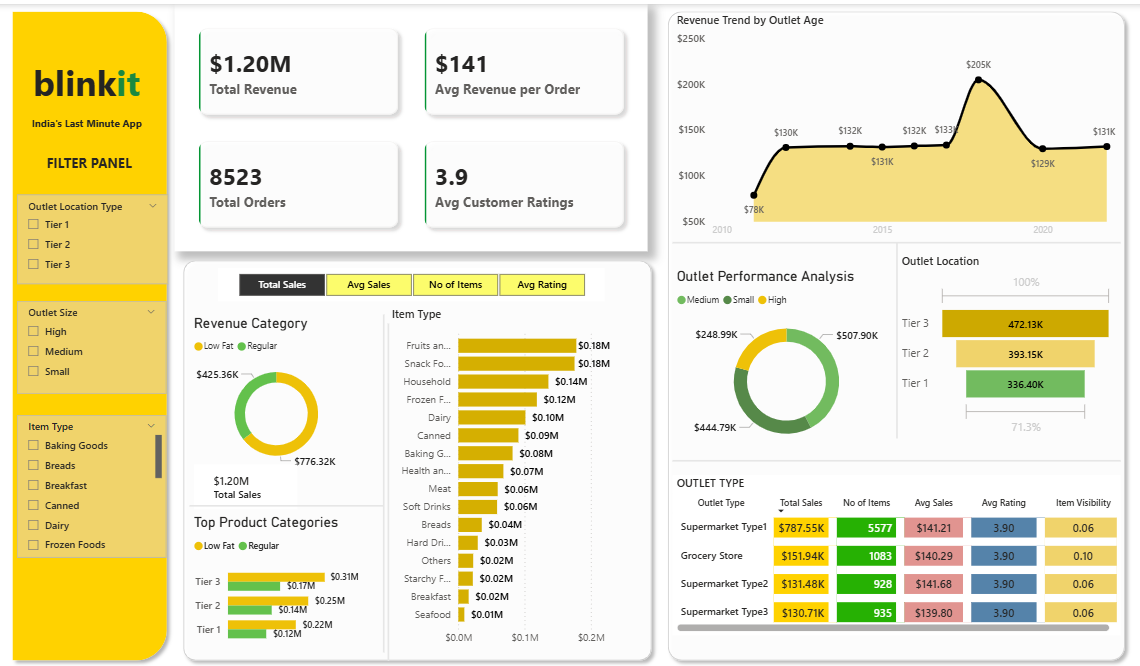

The dashboard page shown, as its layout file describes it:
{"tool":"powerbi","page":{"name":"Page 1","canvas":[1376,800],"ordinal":0},"visuals":[{"type":"shape","box":[8,0,204,800],"z":0},{"type":"textbox","box":[36,60,150,72],"z":1000},{"type":"textbox","box":[34,128,168,38],"z":2000},{"type":"cardVisual","fields":{"Data":["BlinkIT Grocery Data.Total Sales","BlinkIT Grocery Data.Avg Sales","BlinkIT Grocery Data.No of Items","BlinkIT Grocery Data.Avg Rating"]},"box":[212,0,570,298],"z":3000},{"type":"shape","box":[214,300,582,500],"z":4000},{"type":"donutChart","title":"Revenue Category","fields":{"Y":["BlinkIT Grocery Data.Total Sales"],"Category":["BlinkIT Grocery Data.Item Fat Content"]},"box":[230,374.3,208.6,192.9],"z":5000},{"type":"slicer","fields":{"Values":["Metrics.Metrics"]},"box":[264,318,466,40],"z":6000},{"type":"cardVisual","fields":{"Data":["BlinkIT Grocery Data.Total Sales"]},"box":[230,550,135.7,64.3],"z":7000},{"type":"clusteredBarChart","title":"Top Product Categories","fields":{"Y":["BlinkIT Grocery Data.Total Sales"],"Category":["BlinkIT Grocery Data.Outlet Location Type"],"Series":["BlinkIT Grocery Data.Item Fat Content"]},"box":[230,614.3,208.6,167.1],"z":8000},{"type":"shape","box":[230,567.1,234.3,74.3],"z":9000},{"type":"shape","box":[450,374.3,27.1,407.1],"z":10000},{"type":"barChart","title":"Item Type","fields":{"Y":["BlinkIT Grocery Data.Total Sales"],"Category":["BlinkIT Grocery Data.Item Type"]},"box":[468.3,363.3,290,418.3],"z":11000},{"type":"shape","box":[796.7,0,568.3,800],"z":12000},{"type":"lineChart","title":"Revenue Trend by Outlet Age","fields":{"Y":["BlinkIT Grocery Data.Total Sales"],"Category":["BlinkIT Grocery Data.Outlet Establishment Year"]},"box":[811.7,8.3,540,280],"z":13000},{"type":"shape","box":[460,385,16.7,406.7],"z":14000},{"type":"shape","box":[811.7,270,540,36.7],"z":15000},{"type":"donutChart","title":"Outlet Performance Analysis","fields":{"Y":["BlinkIT Grocery Data.Total Sales"],"Category":["BlinkIT Grocery Data.Outlet Size"]},"box":[812,318,274,226],"z":16000},{"type":"shape","box":[1070,288,24,236],"z":17000},{"type":"funnel","title":" Outlet Location ","fields":{"Y":["Sum(BlinkIT Grocery Data.Sales)"],"Category":["BlinkIT Grocery Data.Outlet Location Type"]},"box":[1082,300,264,224],"z":18000},{"type":"shape","box":[812,540,540,20],"z":19000},{"type":"pivotTable","title":"OUTLET TYPE","fields":{"Rows":["BlinkIT Grocery Data.Outlet Type"],"Values":["BlinkIT Grocery Data.Total Sales","BlinkIT Grocery Data.No of Items","BlinkIT Grocery Data.Avg Sales","BlinkIT Grocery Data.Avg Rating","Avg(BlinkIT Grocery Data.Item Visibility)"]},"box":[811.7,568.3,540,193.3],"z":20000},{"type":"slicer","fields":{"Values":["BlinkIT Grocery Data.Outlet Size"]},"box":[22,358,180,112],"z":21000},{"type":"slicer","fields":{"Values":["BlinkIT Grocery Data.Item Type"]},"box":[22,496,180,172],"z":22000},{"type":"slicer","fields":{"Values":["BlinkIT Grocery Data.Outlet Location Type"]},"box":[22,230,182,108],"z":23000},{"type":"textbox","box":[52,176,118,40],"z":24000}]}

Visuals, with their boxes in screenshot pixels (x1, y1, x2, y2), scaled from the page's 1376x800 canvas onto the 1140x666 screenshot:
shape: Rect(7, 0, 176, 665)
textbox: Rect(30, 50, 154, 110)
textbox: Rect(28, 107, 167, 138)
cardVisual - BlinkIT Grocery Data.Total Sales x BlinkIT Grocery Data.Avg Sales: Rect(176, 0, 648, 248)
shape: Rect(177, 250, 659, 665)
"Revenue Category" donutChart: Rect(191, 312, 363, 472)
slicer - Metrics.Metrics: Rect(219, 265, 605, 298)
cardVisual - BlinkIT Grocery Data.Total Sales: Rect(191, 458, 303, 511)
"Top Product Categories" clusteredBarChart: Rect(191, 511, 363, 651)
shape: Rect(191, 472, 385, 534)
shape: Rect(373, 312, 395, 651)
"Item Type" barChart: Rect(388, 302, 628, 651)
shape: Rect(660, 0, 1131, 665)
"Revenue Trend by Outlet Age" lineChart: Rect(672, 7, 1120, 240)
shape: Rect(381, 321, 395, 659)
shape: Rect(672, 225, 1120, 255)
"Outlet Performance Analysis" donutChart: Rect(673, 265, 900, 453)
shape: Rect(886, 240, 906, 436)
" Outlet Location " funnel: Rect(896, 250, 1115, 436)
shape: Rect(673, 450, 1120, 466)
"OUTLET TYPE" pivotTable: Rect(672, 473, 1120, 634)
slicer - BlinkIT Grocery Data.Outlet Size: Rect(18, 298, 167, 391)
slicer - BlinkIT Grocery Data.Item Type: Rect(18, 413, 167, 556)
slicer - BlinkIT Grocery Data.Outlet Location Type: Rect(18, 191, 169, 281)
textbox: Rect(43, 147, 141, 180)
